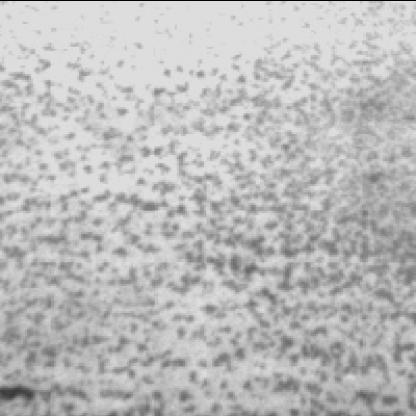pitted_surface: (19, 33, 416, 411)
